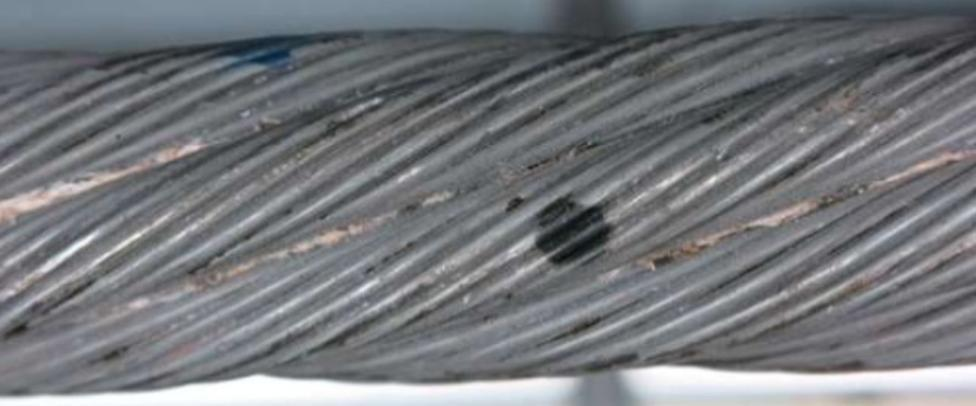thunderbolt: (517, 178, 622, 270)
